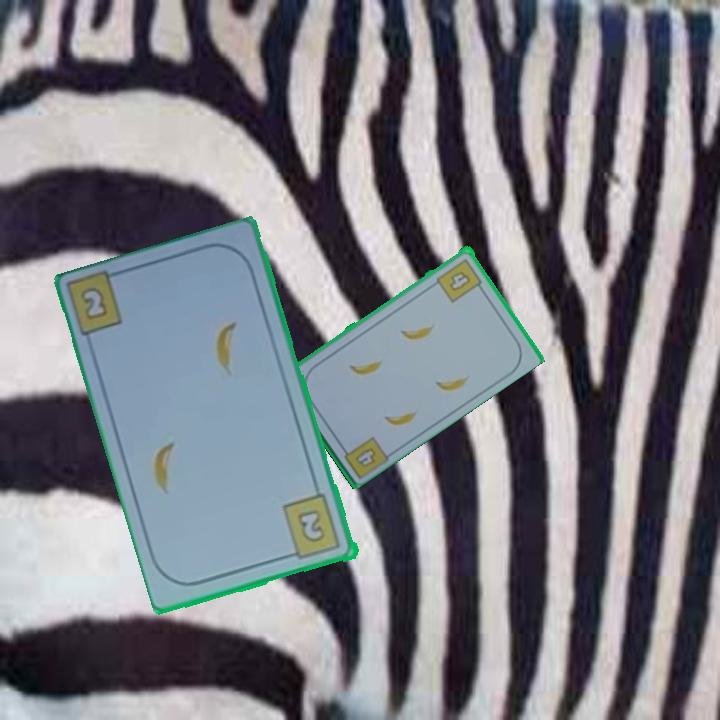2b: (280, 491, 345, 563), (76, 283, 112, 324)
4b: (433, 254, 486, 305), (336, 432, 391, 480)
